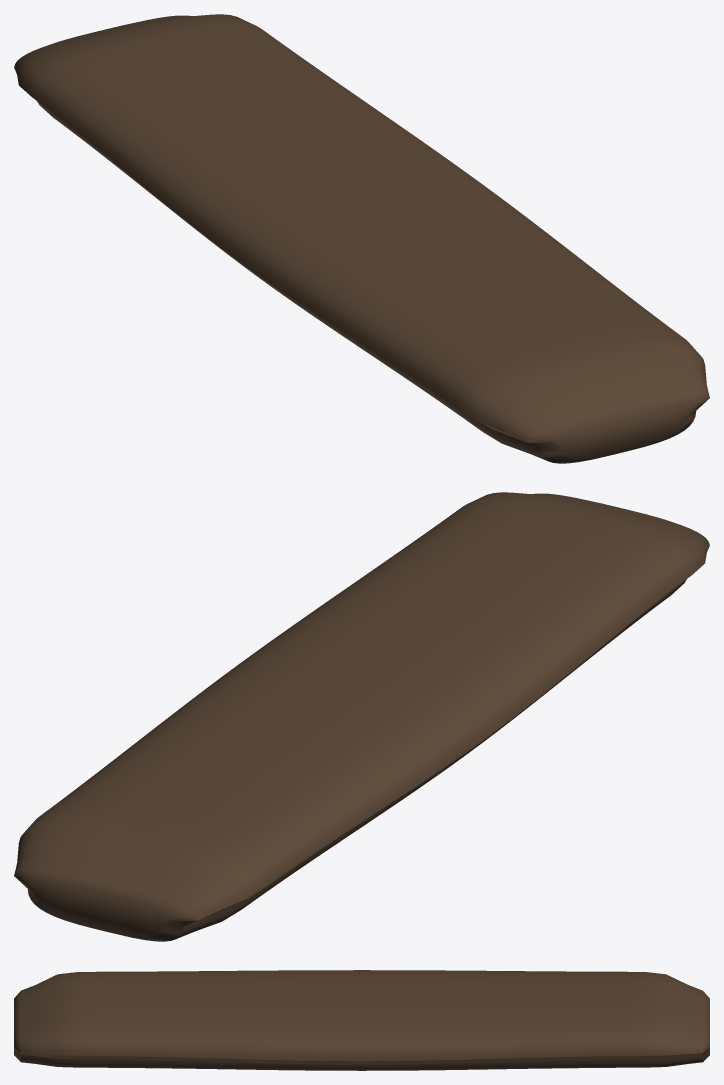
Rendered from bench.glb.
The picture shows the model from 3 angles, top to bottom: view 1: azimuth 30°, elevation 25°; view 2: azimuth 150°, elevation 25°; view 3: azimuth 270°, elevation 25°; orthographic projection. The views are drawn at different scales.
Parts seen in each view (by area): view 1: lod0; view 2: lod0; view 3: lod0.
Part boxes in pixels (x1=…): lod0: x1=14, y1=14, x2=709, y2=463; lod0: x1=14, y1=492, x2=709, y2=941; lod0: x1=14, y1=970, x2=709, y2=1070.
Size of what is drawn, in the model's own units: 0.2792 by 0.075 by 1.
